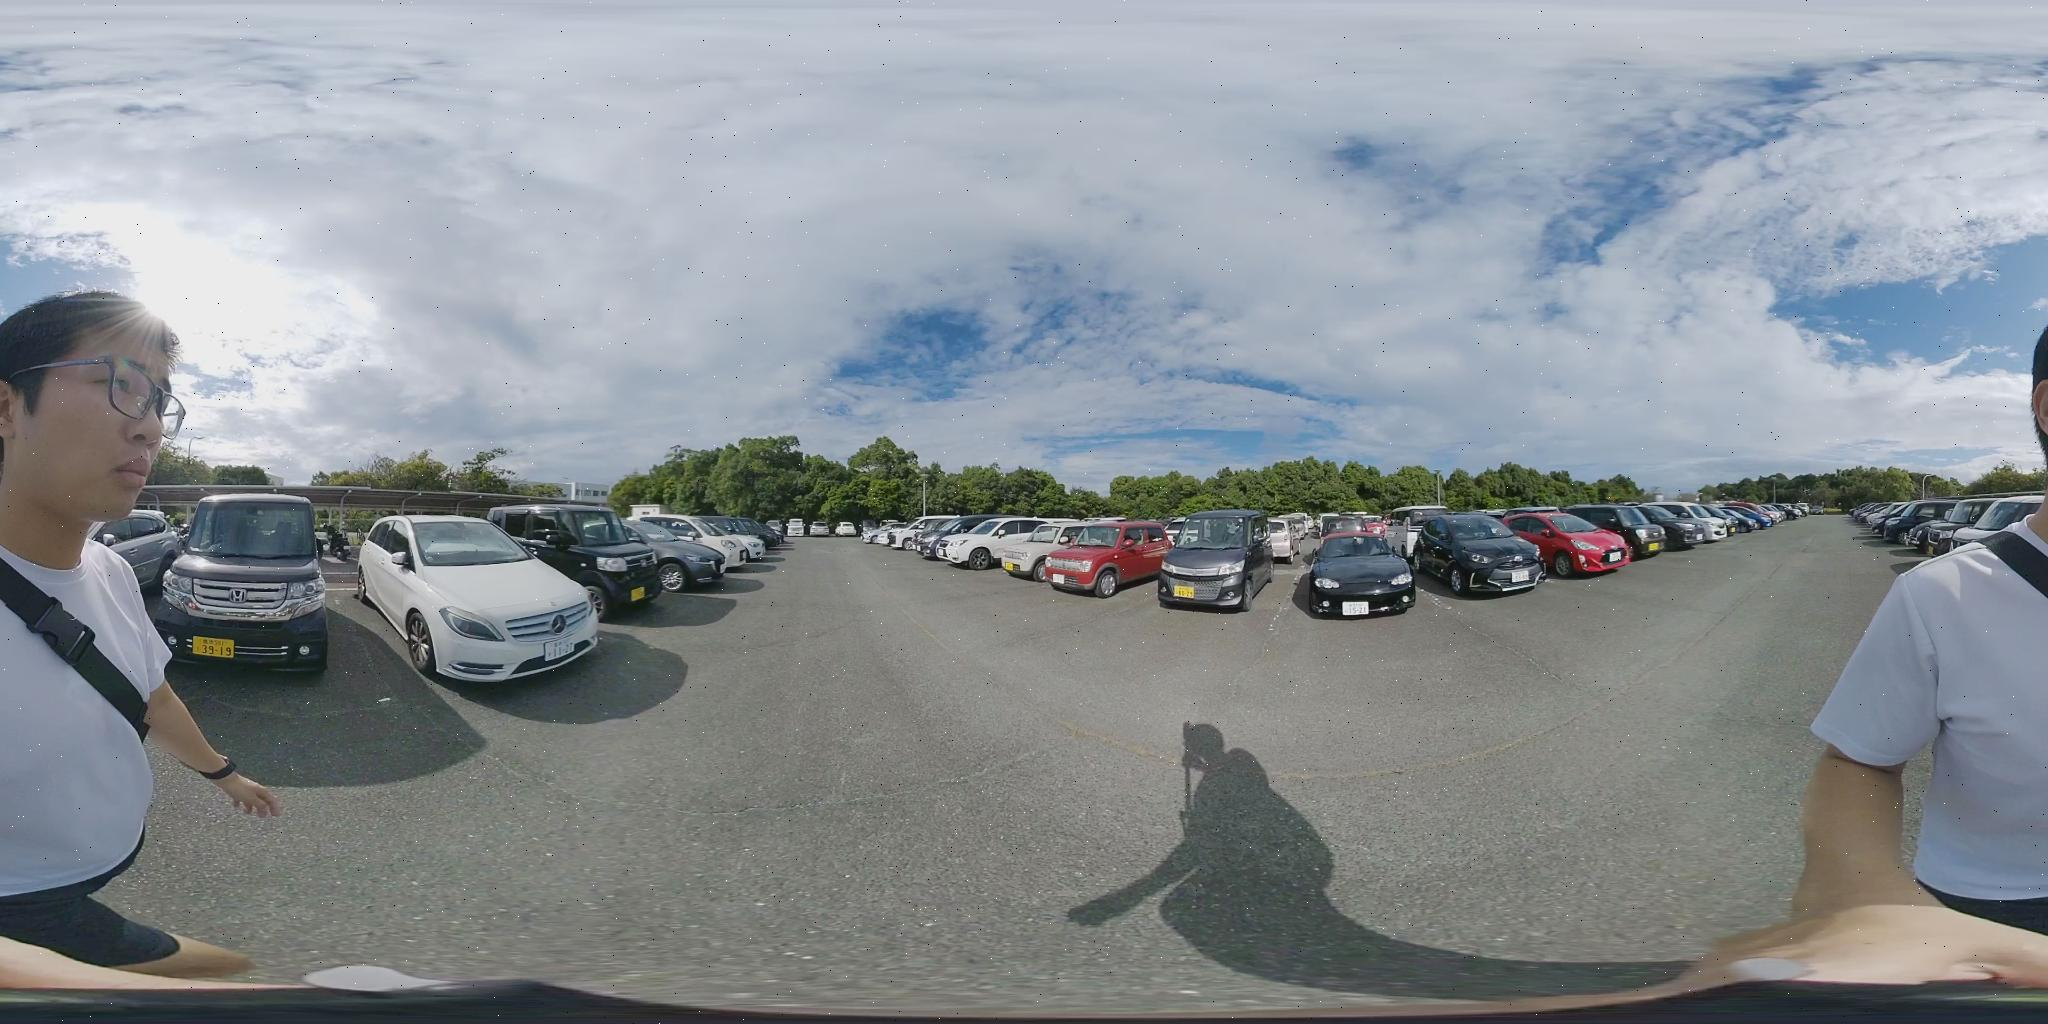car: (347, 513, 610, 683), (154, 495, 337, 674), (487, 503, 687, 605), (1293, 533, 1426, 619), (1159, 511, 1267, 610), (1027, 522, 1166, 592), (1494, 513, 1637, 575), (1904, 498, 2041, 552), (645, 515, 775, 572), (934, 520, 1064, 568), (633, 520, 726, 586), (90, 516, 185, 580), (1570, 507, 1673, 562), (1633, 508, 1718, 549), (1863, 500, 1928, 534), (1725, 504, 1778, 526), (1755, 503, 1801, 521)
